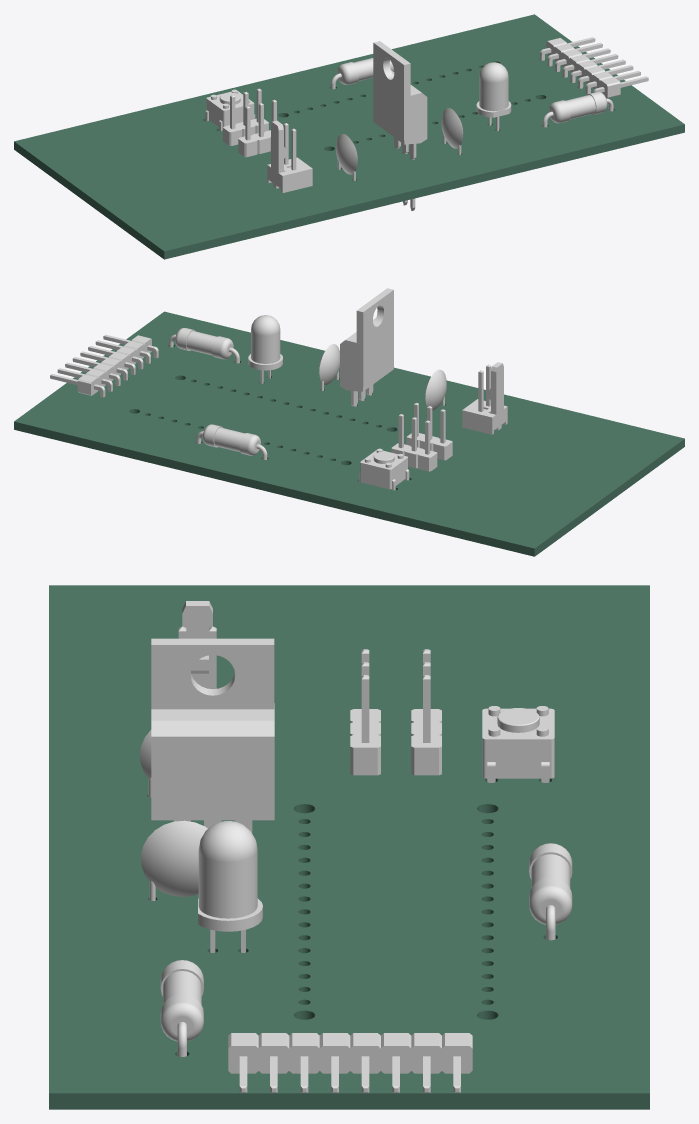
File: modulo_seguidor-3D.glb
3 renders of one model, top to bottom at view 1: azimuth 30°, elevation 25°; view 2: azimuth 150°, elevation 25°; view 3: azimuth 270°, elevation 25°, orthographic. The views are drawn at different scales.
Parts seen in each view (by area): view 1: =>[0:1:1:11], U1, J6, J1, D1, R2, SW1, J5, J4, R1, C2, C1; view 2: =>[0:1:1:11], U1, J6, J1, D1, SW1, R1, R2, J4, J5, C2, C1; view 3: =>[0:1:1:11], U1, J6, D1, SW1, C2, R1, R2, J5, J4, J1.
Boxes of the visible parts, x1,y1,x2,y2 form: =>[0:1:1:11]: (14,14,684,259); U1: (373,41,427,210); J6: (540,37,648,98); J1: (267,120,312,193); D1: (476,62,511,130); R2: (542,92,613,127); SW1: (205,89,255,131); J5: (238,99,276,157); J4: (223,88,268,145); R1: (331,58,394,89); C2: (441,108,463,154); C1: (336,134,357,180); =>[0:1:1:11]: (14,311,684,556); U1: (340,288,393,406); J6: (50,334,158,397); J1: (462,362,507,434); D1: (248,315,282,383); SW1: (359,448,409,490); R1: (196,424,267,459); R2: (169,328,239,363); J4: (391,414,437,471); J5: (406,403,452,460); C2: (319,344,339,390); C1: (425,369,446,410); =>[0:1:1:11]: (49,585,649,1109); U1: (151,638,274,833); J6: (228,1033,472,1092); D1: (198,821,262,952); SW1: (482,706,554,782); C2: (141,820,207,900); R1: (529,843,572,940); R2: (160,960,203,1056); J5: (350,649,380,775); J4: (411,649,441,775); J1: (178,601,216,689).
Size of the model in its own units: 0.1023 by 0.0285 by 0.05.
